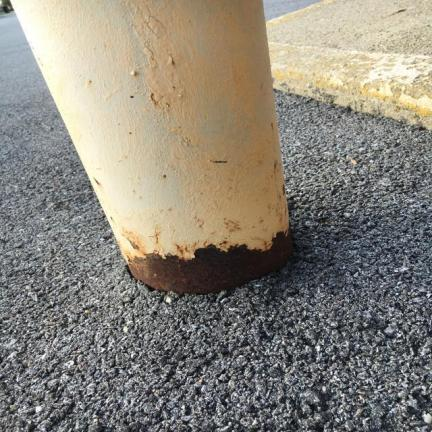karat: (126, 227, 303, 294)
